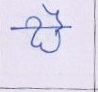ai_matra: (42, 4, 65, 26)
